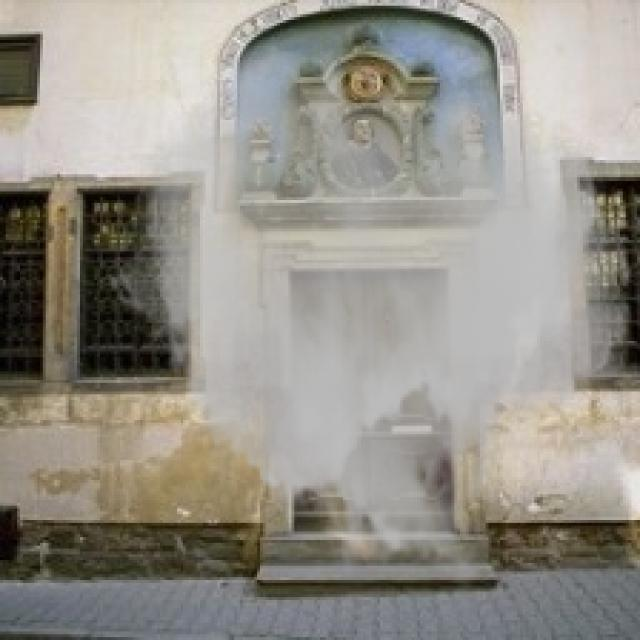Smoke: (105, 46, 638, 592)
